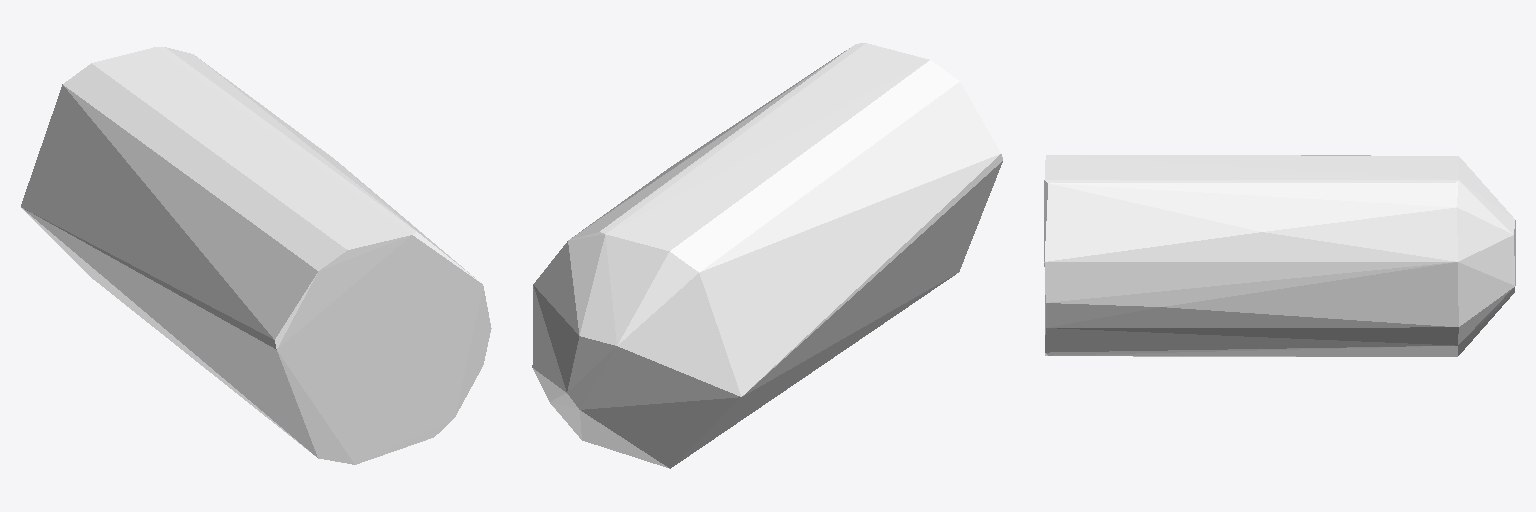
URDF robot description (model.urdf):
<?xml version="0.0" ?>
<robot name="model.urdf">
  <link name="baseLink">
    <contact>
      <lateral_friction value="10.0"/>
      <rolling_friction value="0.1"/>
      <spinning_friction value="0.1"/>
      <contact_cfm value="0.8"/>
      <contact_erp value="0.8"/>
      <restitution value="0.5"/>
    </contact>
    <inertial>
    <origin rpy="0 0 0" xyz="0.0 0.0 0.0"/>
       <mass value="0.5"/>
       <inertia ixx="1e-3" ixy="0" ixz="0" iyy="1e-3" iyz="0" izz="1e-3"/>
    </inertial>
    <visual>
      <geometry>
        <mesh filename="core-bottle-95e6a3a1232f97e3d333084c1357713e.obj" scale="0.6 0.6 0.6"/>
      </geometry>
      <material name="white">
        <color rgba="1. 1. 1. 1."/>
      </material>
    </visual>
    <collision>
      <geometry>
        <mesh filename="core-bottle-95e6a3a1232f97e3d333084c1357713e.obj" scale="0.6 0.6 0.6"/>
      </geometry>
    </collision>
  </link>
</robot>

--- Facts derived from the render (not from the file) ---
3 views of the same robot in one strip: view 1: azimuth 30°, elevation 25°; view 2: azimuth 150°, elevation 25°; view 3: azimuth 270°, elevation 25° (orthographic).
Robot: model.urdf — 1 links, 0 joints (none); root link baseLink; default pose: every joint at zero.
Visible links, largest first — view 1: baseLink; view 2: baseLink; view 3: baseLink.
Link boxes in pixels (x1=…): baseLink: x1=21, y1=47, x2=491, y2=464; baseLink: x1=532, y1=43, x2=1002, y2=468; baseLink: x1=1044, y1=155, x2=1515, y2=356.
Bounding box of the posed robot: 0.0594 × 0.1398 × 0.0573 m (x, y, z).
1 mesh visuals loaded from 1 distinct referenced files (1 OBJ).